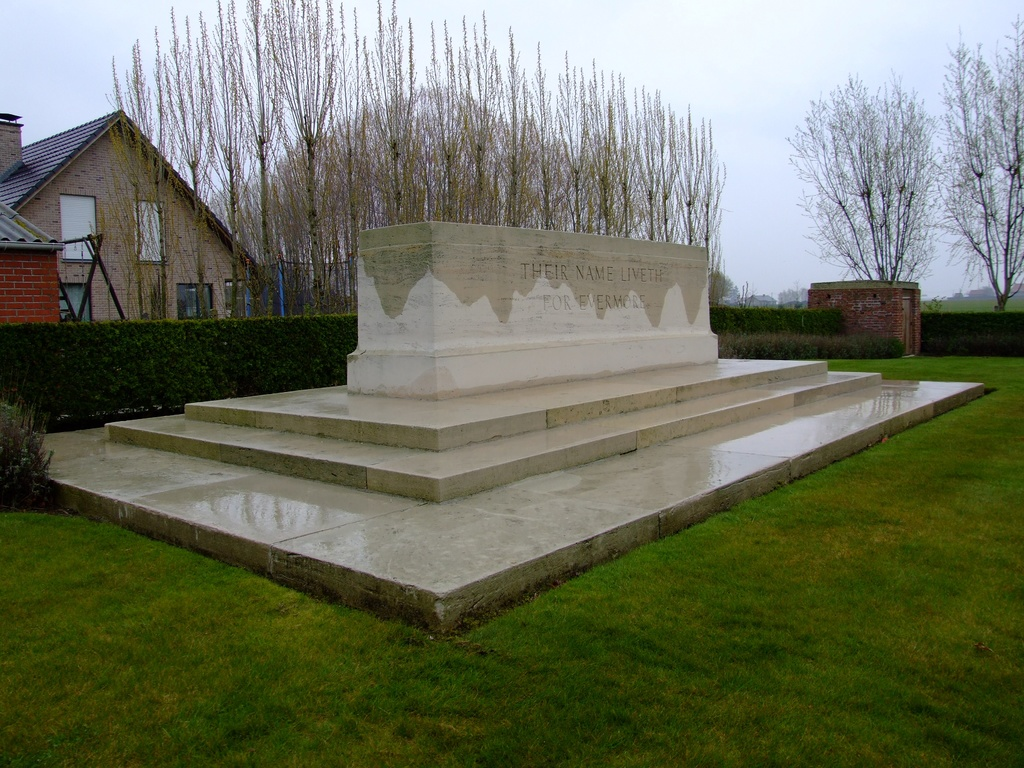Tree: (213, 78, 554, 334), (792, 73, 955, 291), (918, 24, 1023, 316)
